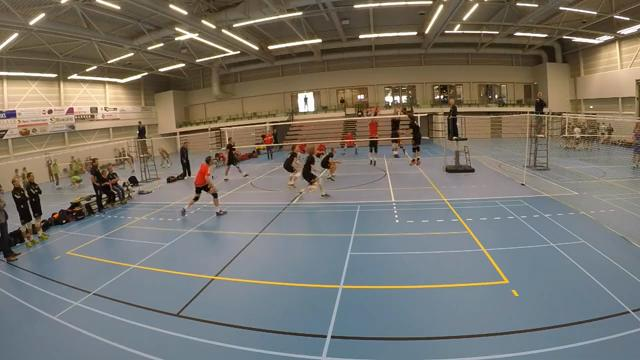Attack: (398, 104, 425, 169)
Block: (387, 101, 407, 159), (362, 107, 381, 164)
Player: (180, 156, 226, 215), (300, 145, 328, 197), (224, 137, 248, 180), (283, 145, 299, 187), (321, 148, 339, 180), (342, 132, 357, 154), (316, 144, 325, 157)
